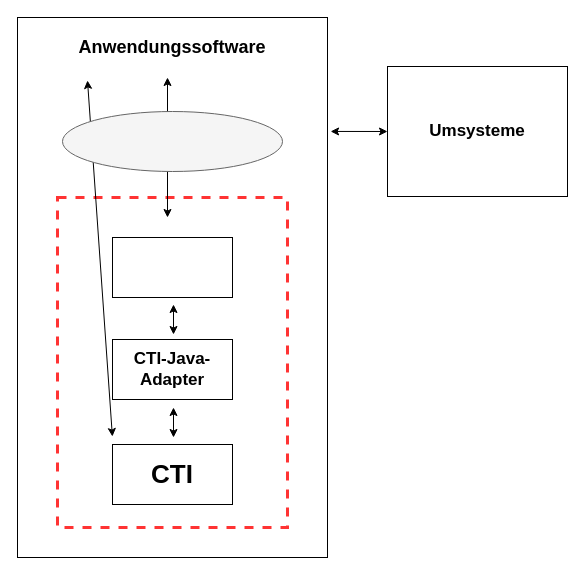
Image size: 585x575. Some labels were removed from this diagram. The shapes that lost their labels are listed below. From the top down, each one's centre as x and y in pixels, then its label:
the point at 172,141: Voucher-Vorlagen, Voucher und Texte
the point at 172,267: CTI-Java
